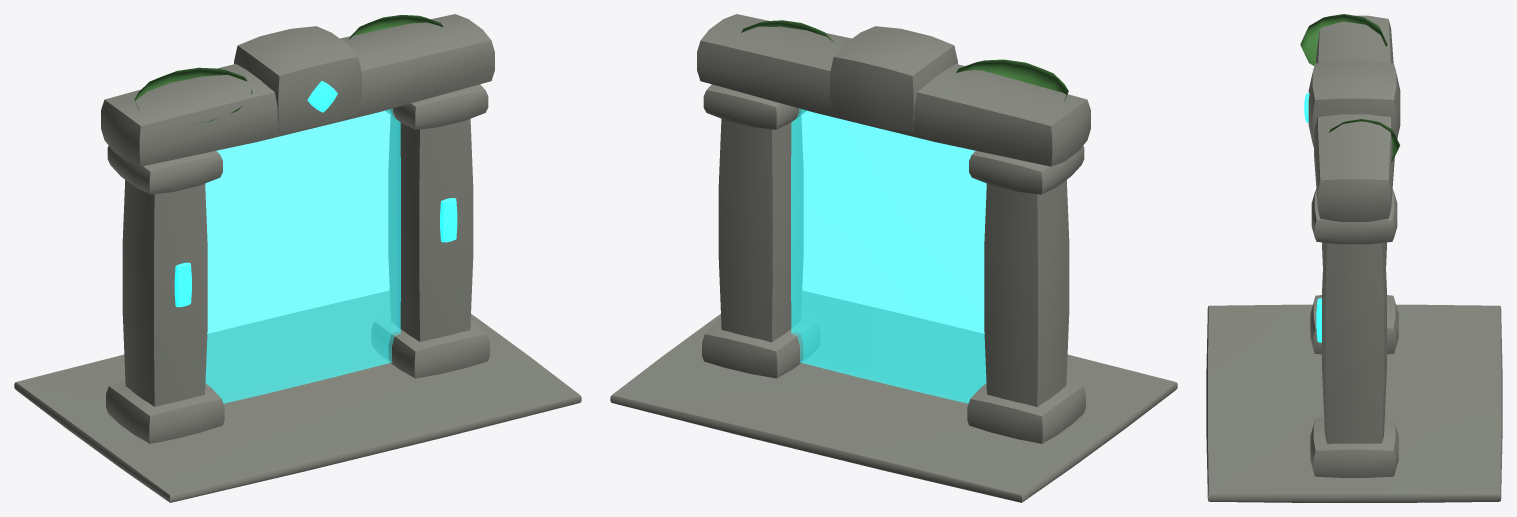
File: ancient_arch.glb
The picture shows the model from 3 angles, left to right: view 1: azimuth 30°, elevation 25°; view 2: azimuth 150°, elevation 25°; view 3: azimuth 270°, elevation 25°; orthographic projection. The views are drawn at different scales.
Parts seen in each view (by area): view 1: ArchStructure, MagicGate; view 2: ArchStructure, MagicGate; view 3: ArchStructure.
Part boxes in pixels (x1,y1,x2,y2): ArchStructure: (14,14,581,502); MagicGate: (205,108,400,403); ArchStructure: (610,14,1177,502); MagicGate: (791,109,986,403); ArchStructure: (1206,14,1502,502).
Bounding box in the file's own units: 6.4 × 5.22 × 4.2.
